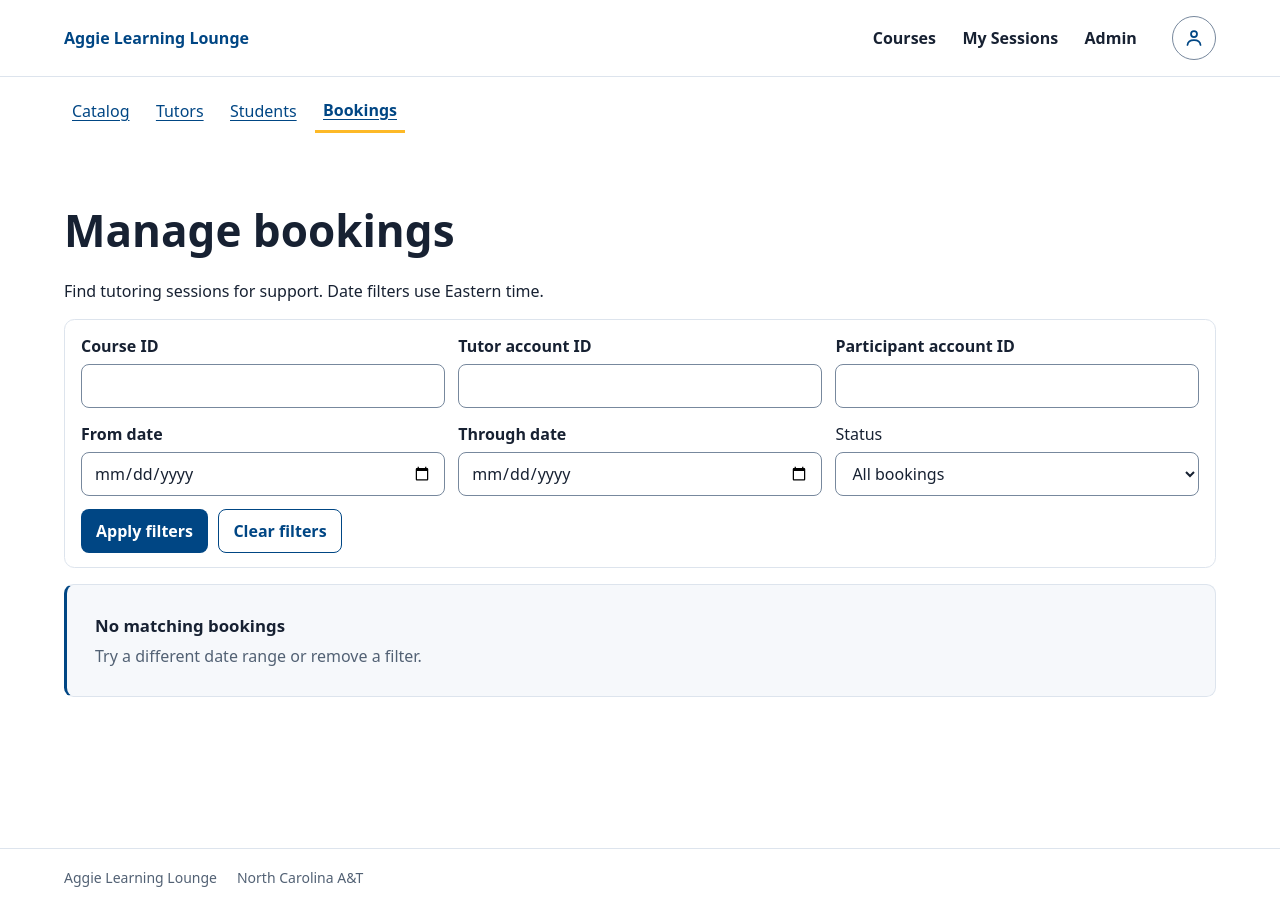
Scenario: Phase 5 — Admin support and pilot readiness › ignores stale booking results that arrive after newer filter results
expect the heading "No matching bookings" is shown: met, box [95,614,285,637]
Type "8" into the field labelled "Course ID". click: (263, 386)
box: [81,364,445,408]
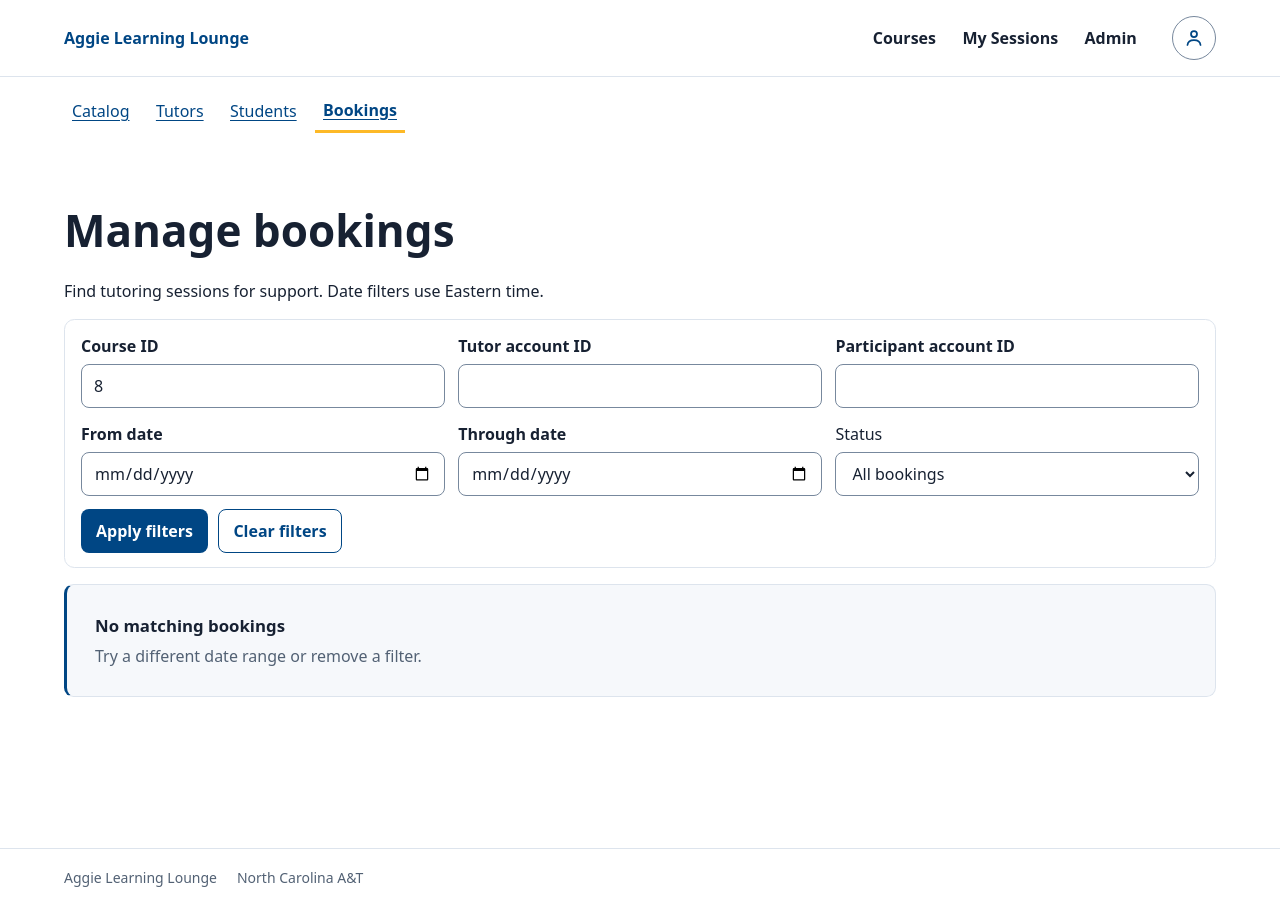
Click the button "Apply filters". click: (144, 531)
box: [81,509,208,553]
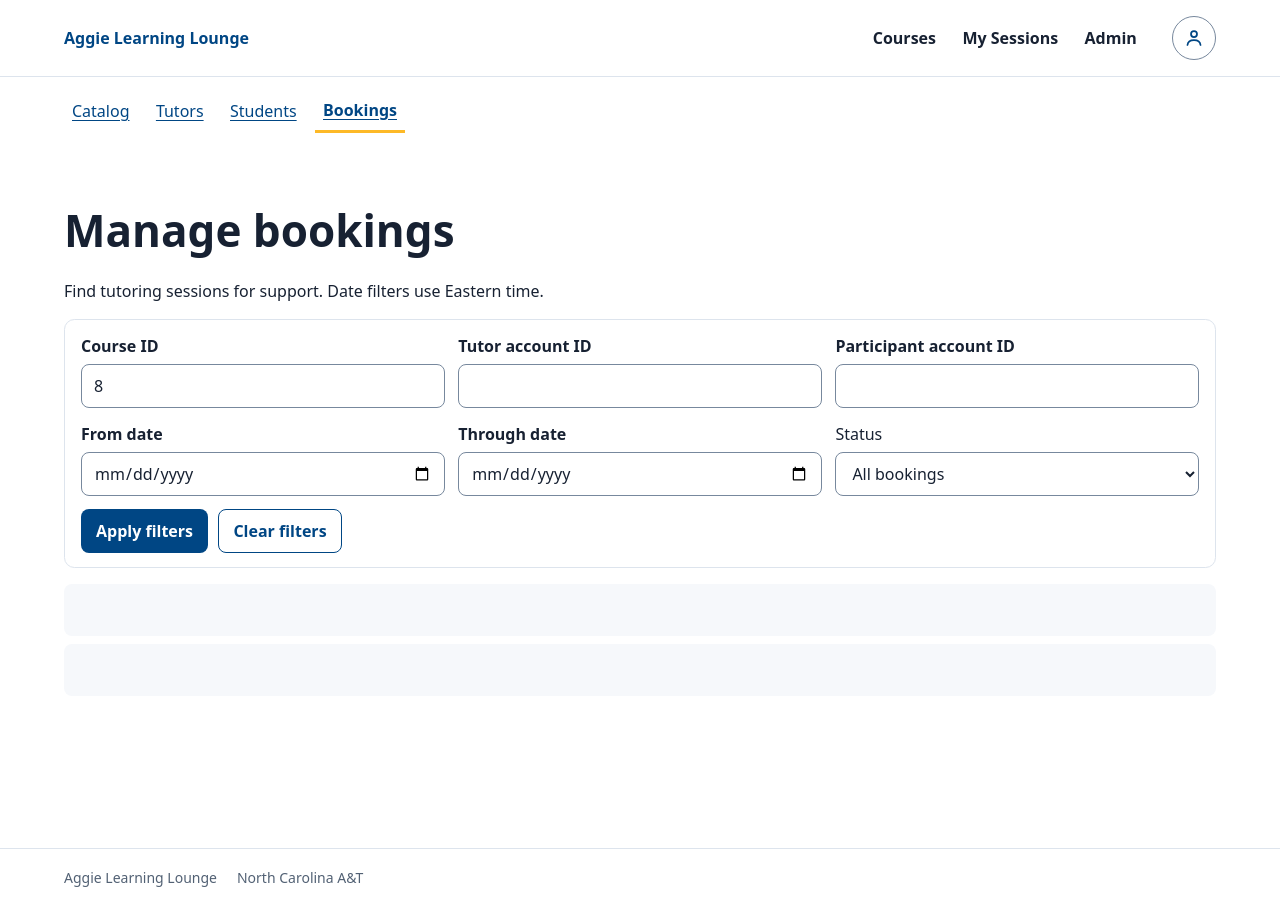
Replace the text in the field labelled "Course ID" with "7". click: (263, 386)
box: [81,364,445,408]
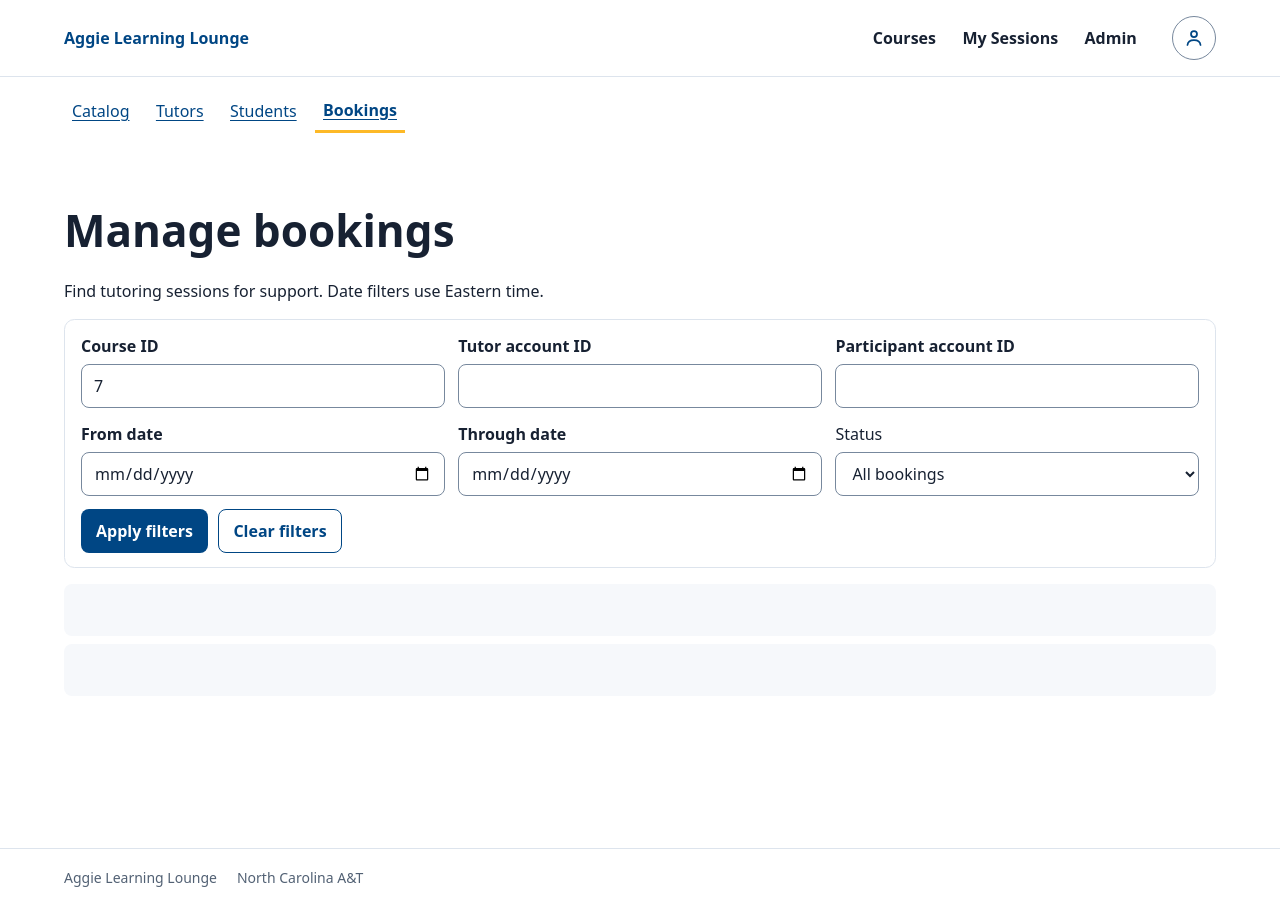
Click the button "Apply filters". click: (144, 531)
box: [81,509,208,553]
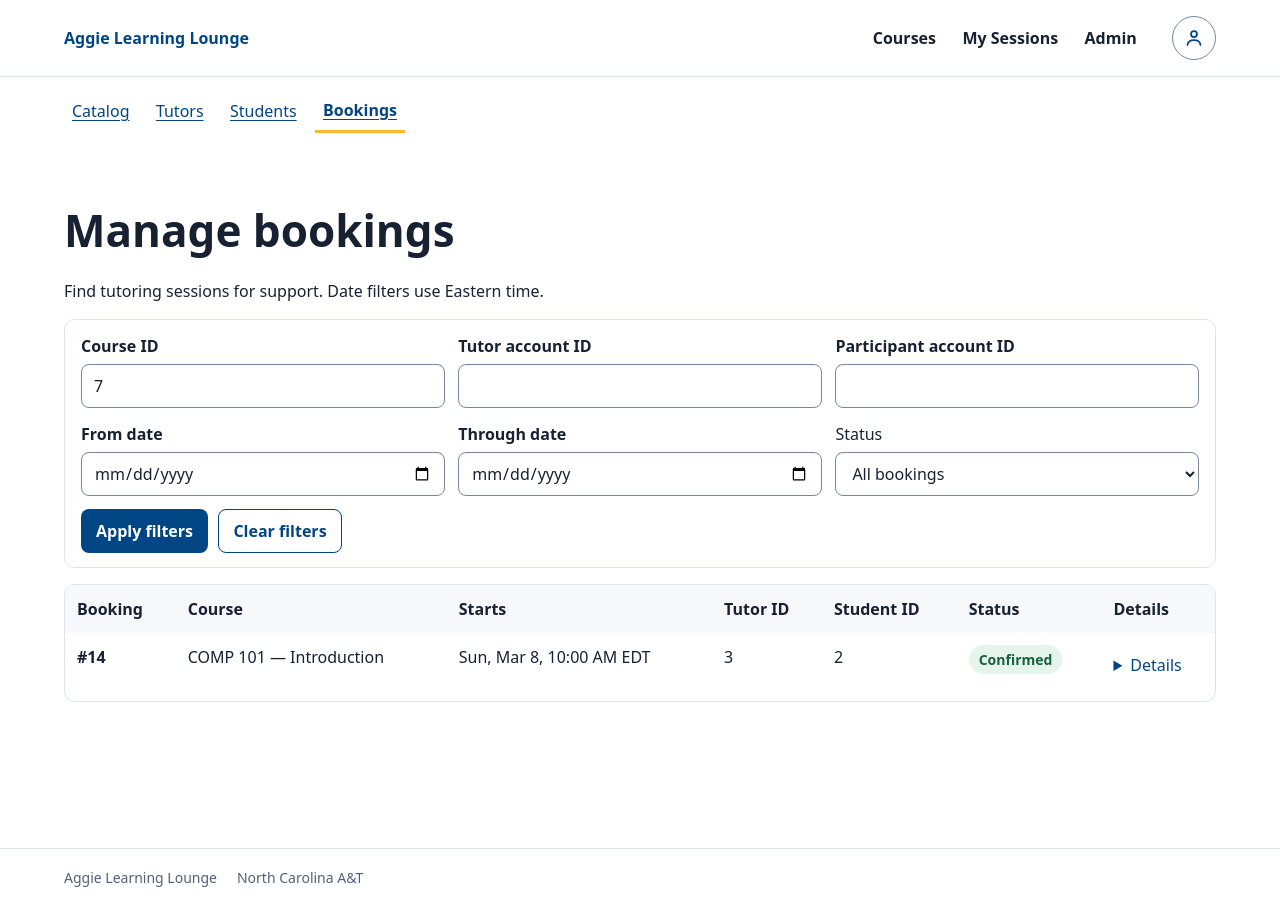
expect the column heading "#14" is shown: met, box [65,633,176,701]
